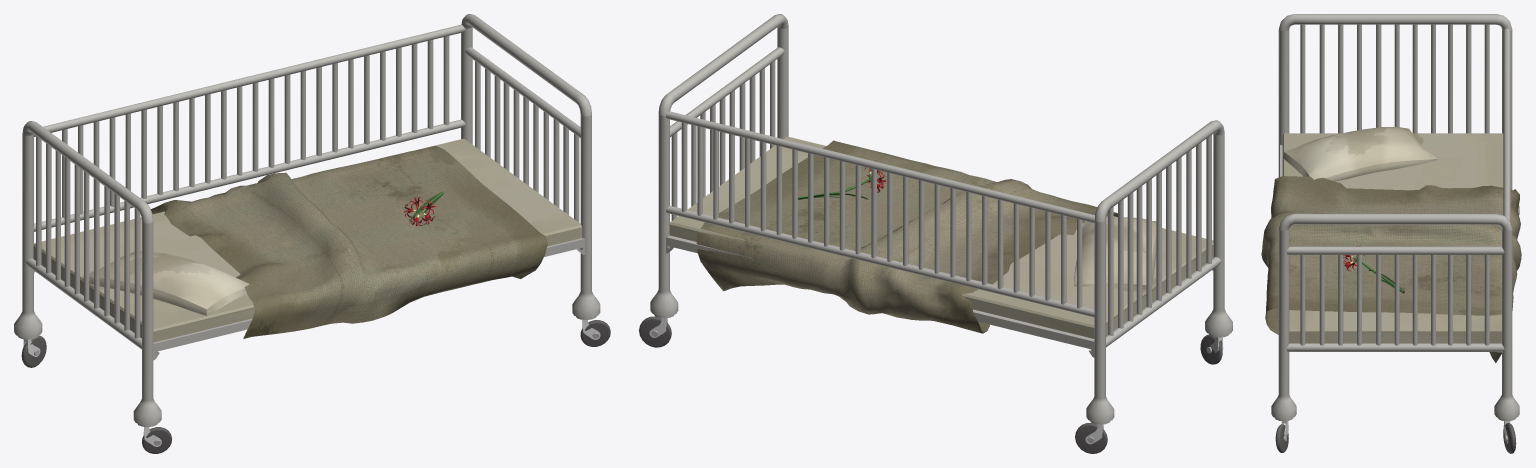
The model's file is hospital_bed.glb.
3 renders of one model, left to right at view 1: azimuth 30°, elevation 25°; view 2: azimuth 150°, elevation 25°; view 3: azimuth 270°, elevation 25°, orthographic. The views are drawn at different scales.
Parts seen in each view (by area): view 1: bed3:pCylinder11, Uchujin_Main6; view 2: bed3:pCylinder11; view 3: bed3:pCylinder11, Uchujin_Main6.
Part boxes in pixels (left/top/right/bottom): bed3:pCylinder11: left=14, top=14, right=610, bottom=453; Uchujin_Main6: left=394, top=191, right=444, bottom=233; bed3:pCylinder11: left=639, top=14, right=1232, bottom=453; bed3:pCylinder11: left=1261, top=14, right=1521, bottom=453; Uchujin_Main6: left=1330, top=232, right=1404, bottom=293.
Bounding box in the file's own units: 2.12 × 1.08 × 1.08.
Materials: 8 (5 with a texture image).
